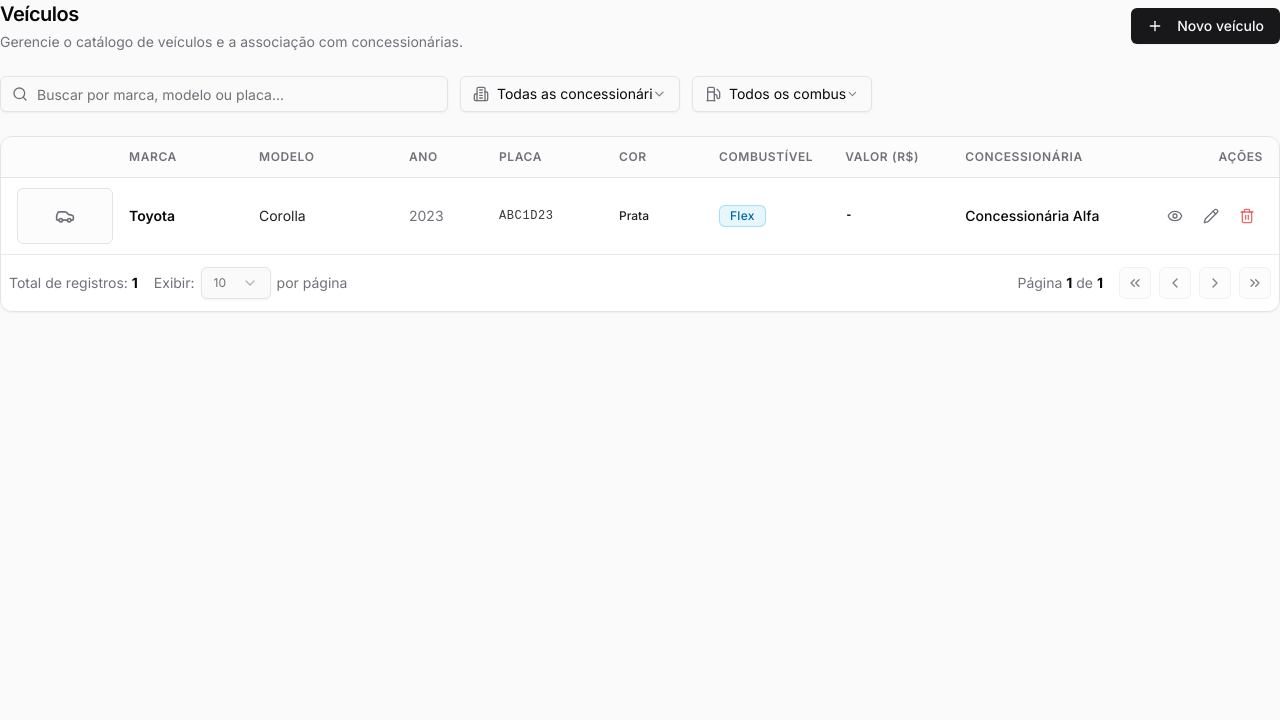
Scenario: VehiclesPage › should open delete dialog when delete button is clicked in table row
Click the button named "Excluir veículo Toyota Corolla".
click(1247, 216)  # box [1231,200,1263,232]
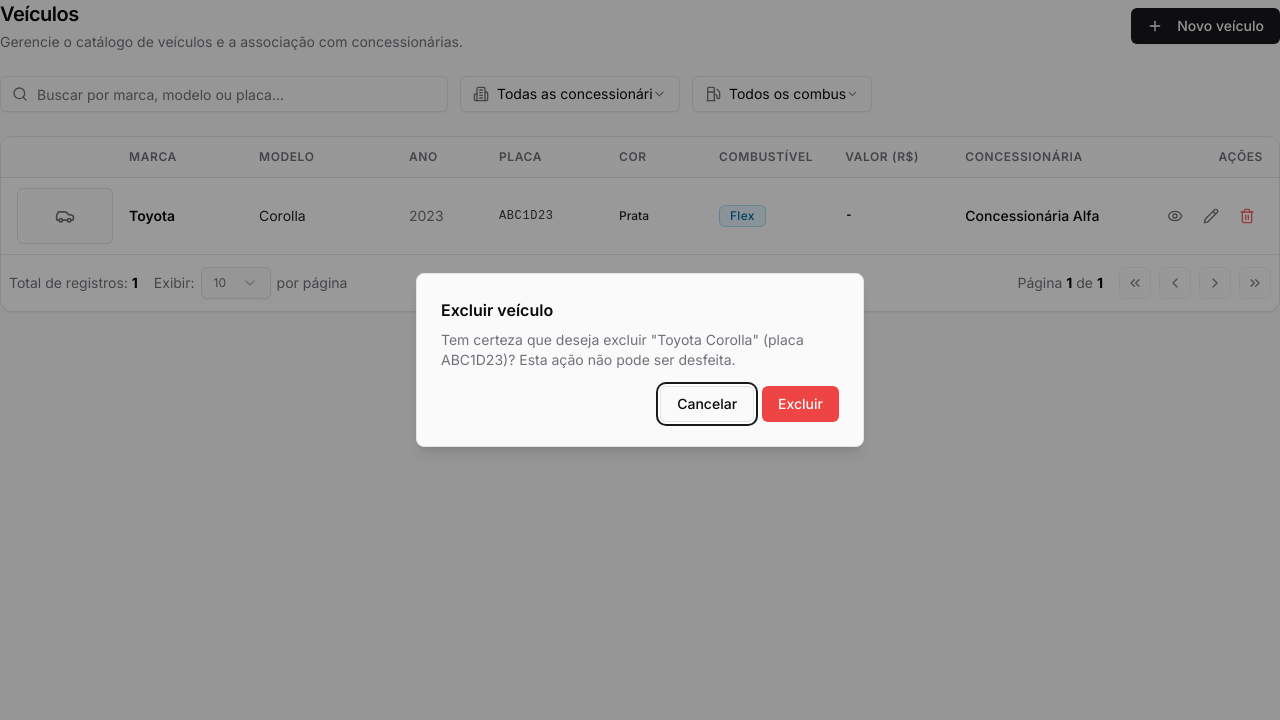
expect the dialog is shown: met, box [416,273,864,447]
expect the heading "Excluir veículo" is shown: met, box [441,300,553,320]
